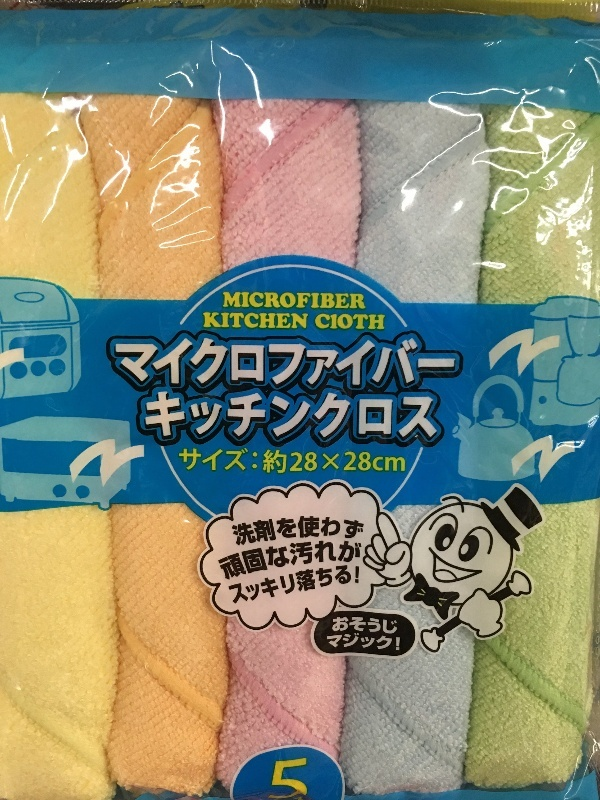text: (225, 527, 240, 583), (241, 527, 256, 583), (257, 527, 272, 583), (273, 527, 288, 583), (289, 527, 304, 583), (305, 527, 320, 583), (321, 527, 336, 583), (337, 527, 352, 583), (113, 338, 128, 388), (129, 338, 144, 388), (145, 338, 160, 388), (161, 338, 176, 388), (177, 338, 192, 388), (193, 338, 208, 388), (209, 338, 224, 388), (225, 338, 240, 388), (241, 338, 256, 388), (257, 338, 272, 388), (273, 338, 288, 388), (289, 338, 304, 388), (305, 338, 320, 388), (321, 338, 336, 388), (337, 338, 352, 388), (353, 338, 368, 388), (369, 338, 384, 388), (385, 338, 400, 388), (401, 338, 416, 388), (417, 338, 432, 388), (433, 338, 448, 388), (145, 392, 160, 442), (161, 392, 176, 442), (177, 392, 192, 442), (193, 392, 208, 442), (209, 392, 224, 442), (225, 392, 240, 442), (241, 392, 256, 442), (257, 392, 272, 442), (273, 392, 288, 442), (289, 392, 304, 442), (305, 392, 320, 442), (321, 392, 336, 442), (337, 392, 352, 442), (353, 392, 368, 442), (369, 392, 384, 442), (385, 392, 400, 442), (401, 392, 416, 442), (417, 392, 432, 442), (241, 559, 256, 608), (257, 559, 272, 608), (273, 559, 288, 608), (289, 559, 304, 608), (305, 559, 320, 608), (321, 559, 336, 608), (337, 559, 352, 608), (99, 338, 112, 388), (227, 559, 240, 608), (289, 759, 304, 800), (193, 444, 208, 484), (209, 444, 224, 484), (225, 444, 240, 484), (241, 444, 256, 484), (257, 444, 272, 484), (273, 444, 288, 484), (289, 444, 304, 484), (305, 444, 320, 484), (321, 444, 336, 484), (337, 444, 352, 484), (353, 444, 368, 484), (369, 444, 384, 484), (385, 444, 400, 484), (178, 444, 192, 484), (353, 527, 363, 583), (241, 512, 256, 548), (257, 512, 272, 548), (273, 512, 288, 548), (289, 512, 304, 548), (305, 512, 320, 548), (321, 512, 336, 548), (337, 512, 352, 548), (276, 759, 288, 800), (353, 512, 365, 548), (217, 527, 224, 583), (449, 338, 456, 388), (353, 559, 360, 608), (209, 311, 224, 333), (225, 311, 240, 333), (241, 311, 256, 333), (257, 311, 272, 333), (273, 311, 288, 333), (289, 311, 304, 333), (337, 617, 352, 638), (353, 617, 368, 638), (369, 617, 384, 638), (385, 617, 400, 638), (433, 392, 439, 442), (337, 633, 352, 653), (353, 633, 368, 653), (369, 633, 384, 653), (385, 633, 400, 653), (232, 512, 240, 548), (225, 292, 240, 311), (241, 292, 256, 311), (257, 292, 272, 311), (273, 292, 288, 311), (289, 292, 304, 311), (305, 292, 320, 311), (321, 292, 336, 311), (337, 292, 352, 311), (353, 292, 368, 311), (321, 314, 336, 331), (337, 314, 352, 331), (353, 314, 368, 331), (369, 314, 384, 331), (401, 444, 407, 484), (325, 633, 336, 653), (203, 311, 208, 333), (305, 311, 310, 333), (142, 392, 144, 442), (315, 314, 320, 331), (332, 617, 336, 638), (305, 759, 307, 800), (401, 633, 403, 653), (223, 292, 224, 311), (385, 314, 386, 331)
